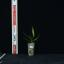leaf: (23, 31, 32, 42), (32, 33, 40, 42), (23, 38, 31, 42), (32, 26, 34, 41), (29, 35, 32, 39)
